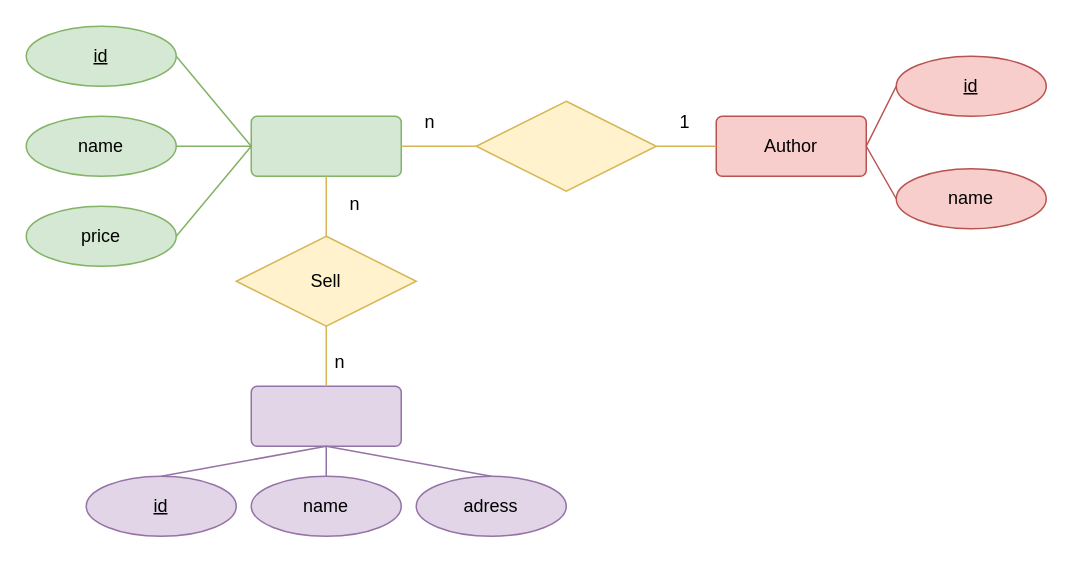
Some shapes in this 1073 by 563 pixel diagram are drawn without their labels. The centre of each missing label's shape, as x and y in pixels:
"Book" belongs at point 325,145.
"Employee" belongs at point 325,415.
"Write" belongs at point 565,145.
